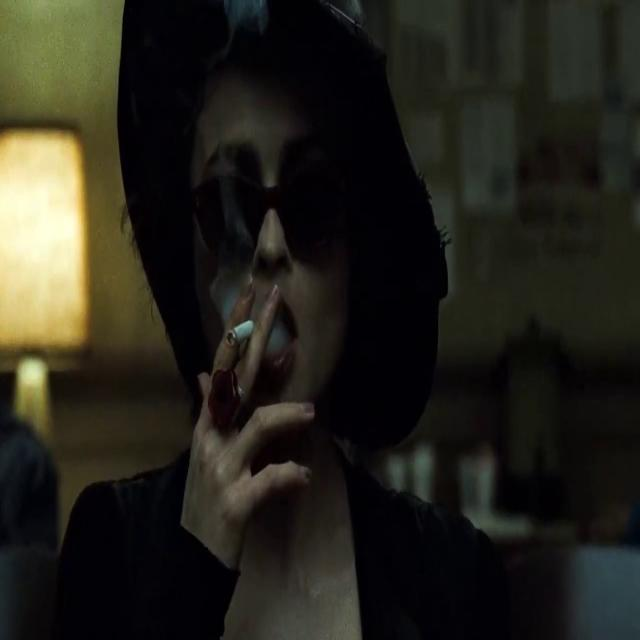Smooking: (219, 313, 257, 349)
